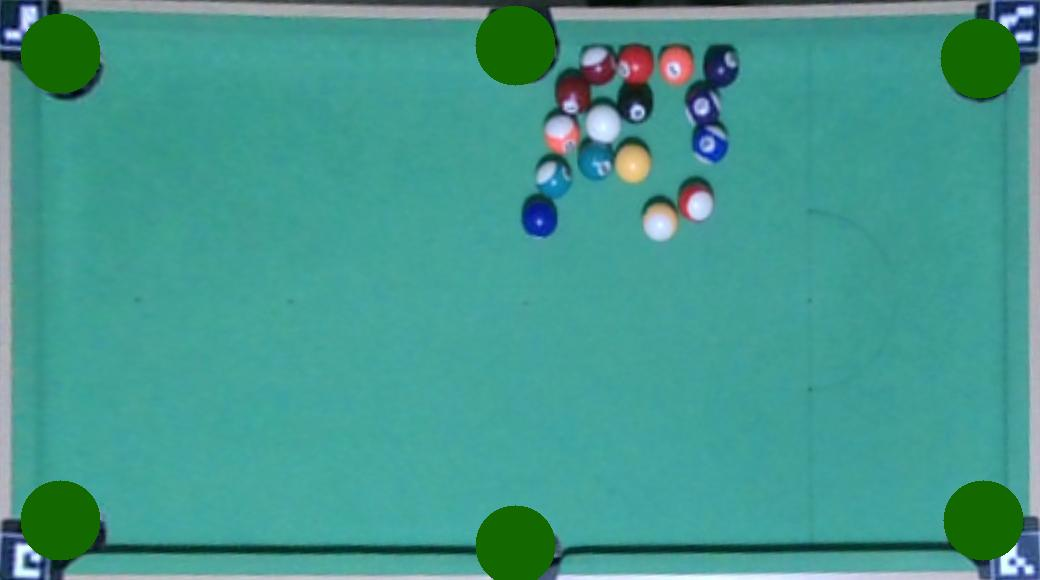Ball: (580, 106, 622, 144), (554, 74, 592, 114), (542, 115, 580, 155), (691, 123, 728, 164), (578, 44, 616, 83), (684, 84, 721, 124), (536, 158, 573, 198), (705, 46, 742, 86), (614, 144, 652, 182), (520, 198, 558, 236), (656, 46, 694, 84), (640, 202, 678, 240), (616, 84, 652, 124), (616, 46, 653, 84), (677, 182, 714, 220), (578, 142, 614, 180)
